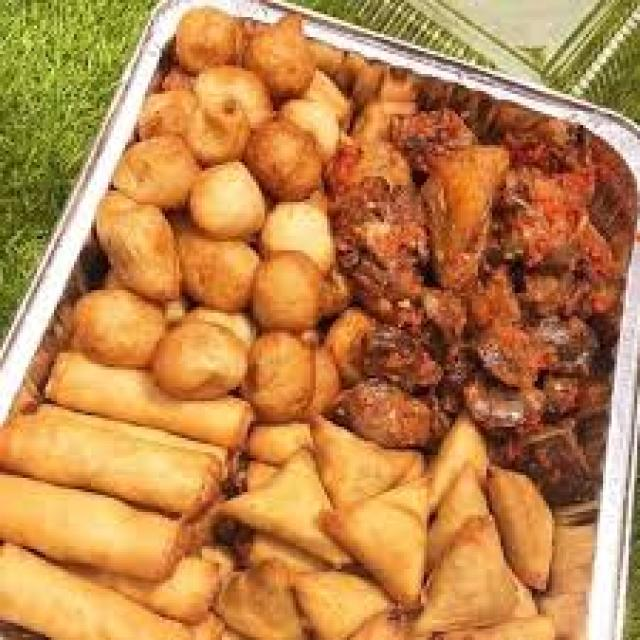Samosa: (250, 401, 555, 637)
Spring Rolls: (3, 350, 215, 638)
